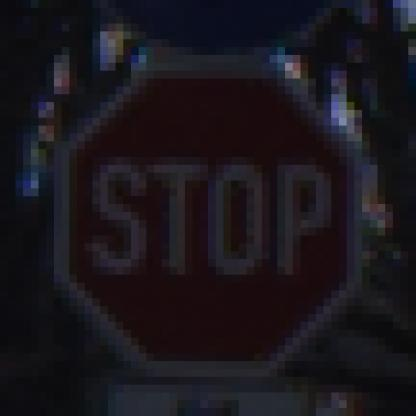stop: (41, 59, 381, 375)
